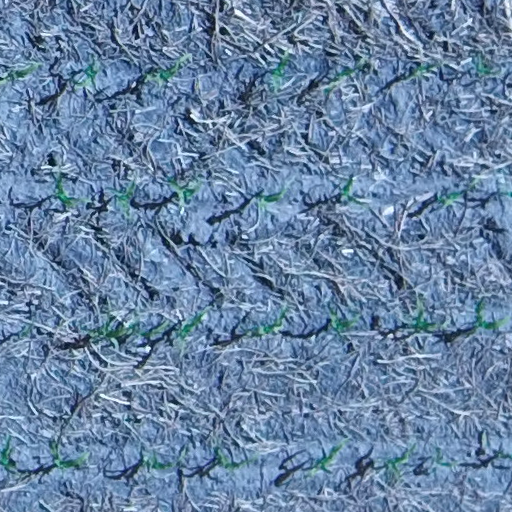planta: (77, 309, 130, 349), (304, 434, 351, 479), (320, 55, 367, 96), (402, 297, 450, 335), (241, 303, 291, 339), (141, 52, 192, 87), (51, 170, 93, 210), (164, 173, 204, 214), (171, 306, 210, 348), (47, 438, 91, 474), (211, 443, 260, 474), (381, 442, 419, 479), (107, 178, 138, 221), (266, 47, 294, 94), (326, 305, 363, 340), (69, 53, 102, 92), (252, 184, 289, 213), (337, 174, 367, 209), (138, 450, 178, 473), (132, 319, 172, 340), (430, 445, 459, 470), (469, 53, 496, 78), (405, 61, 438, 81), (433, 188, 465, 208)
